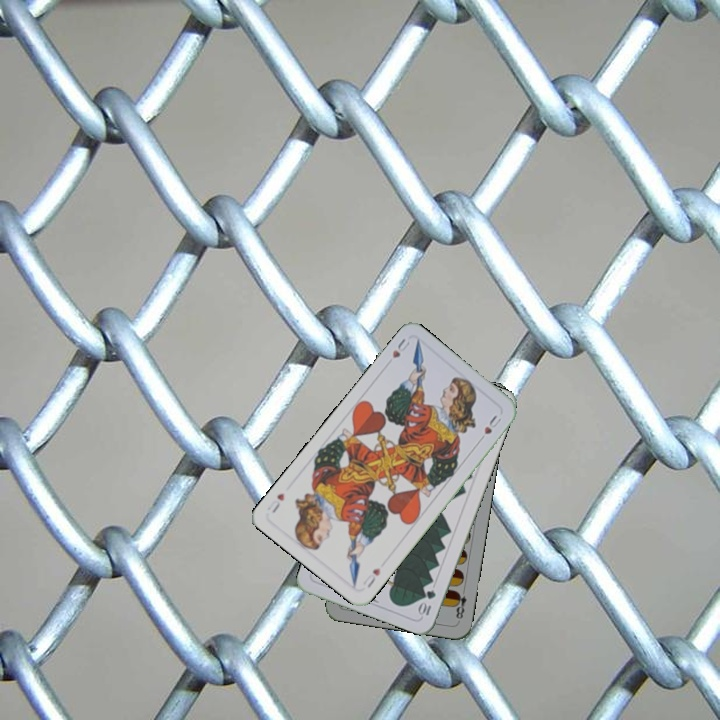E8: (450, 584, 469, 624)
G10: (415, 586, 438, 619)
HU: (388, 334, 412, 361), (359, 564, 383, 590)
